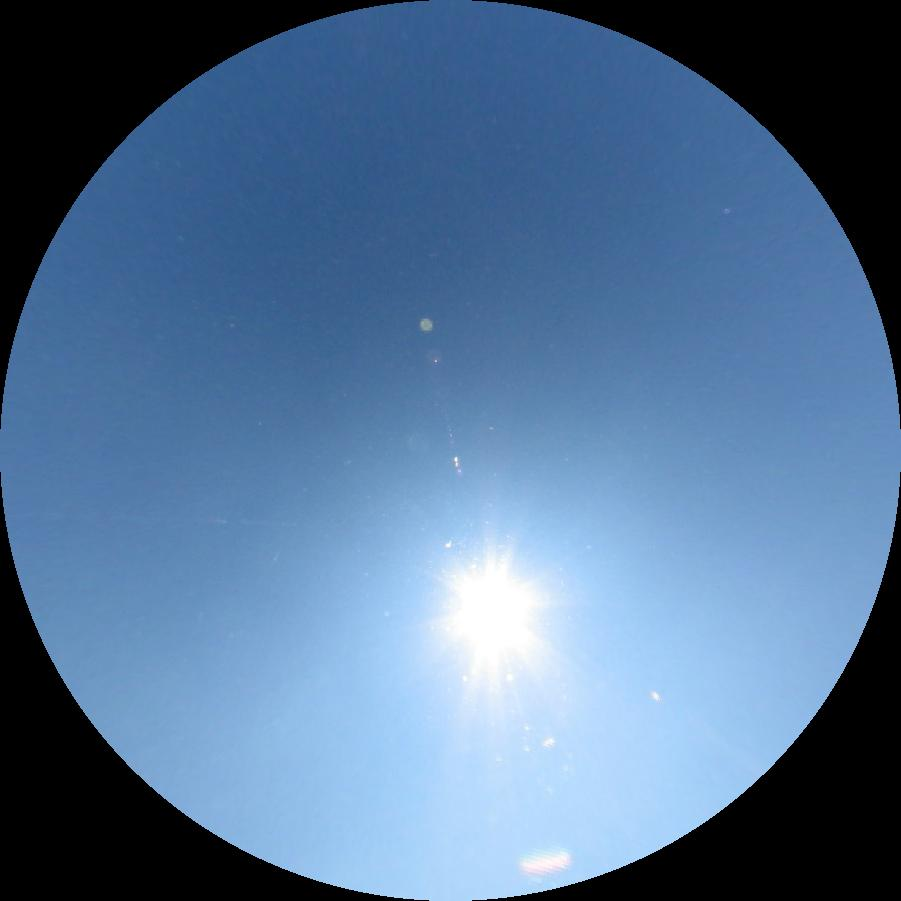parasite: (5, 512, 339, 529)
sun: (446, 556, 536, 676)
